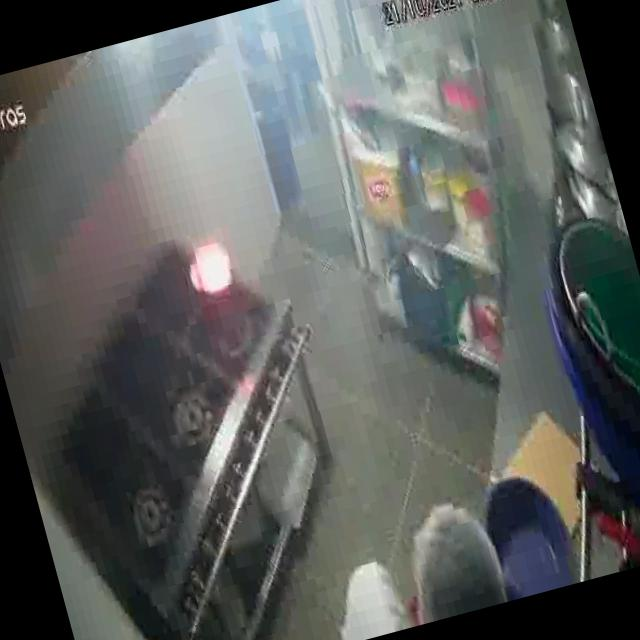Fire: (183, 235, 245, 298)
